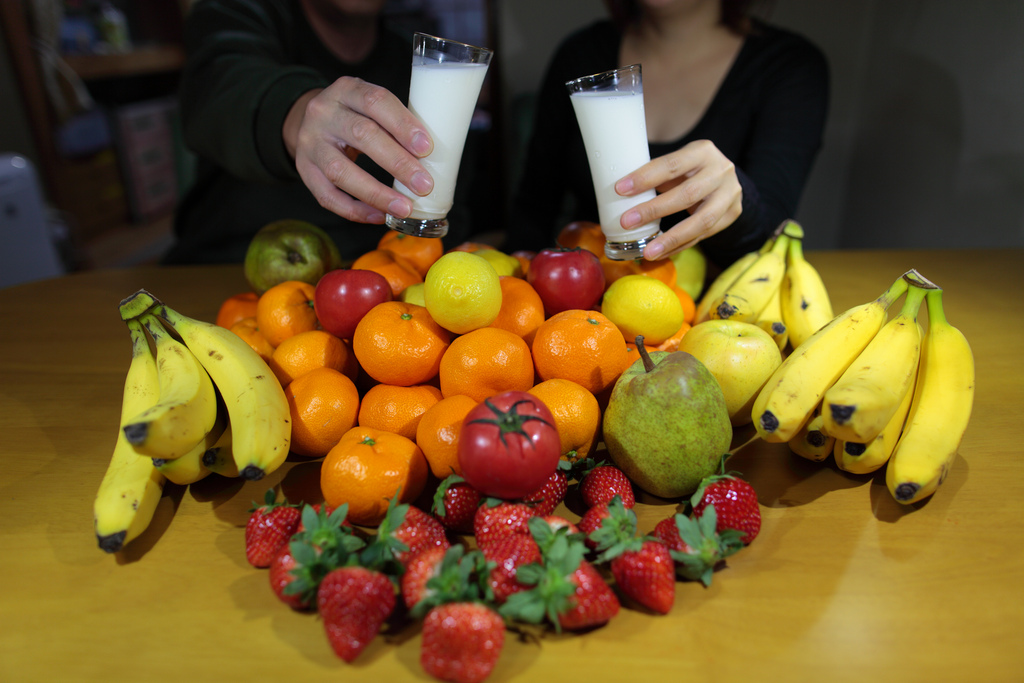glass of milk: (391, 34, 496, 241), (554, 66, 669, 251)
